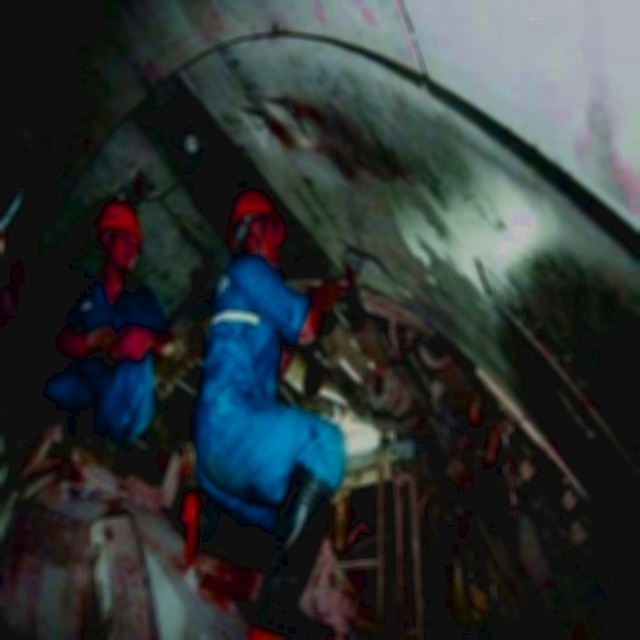Con_Casco: (232, 188, 285, 260), (99, 205, 141, 266)
